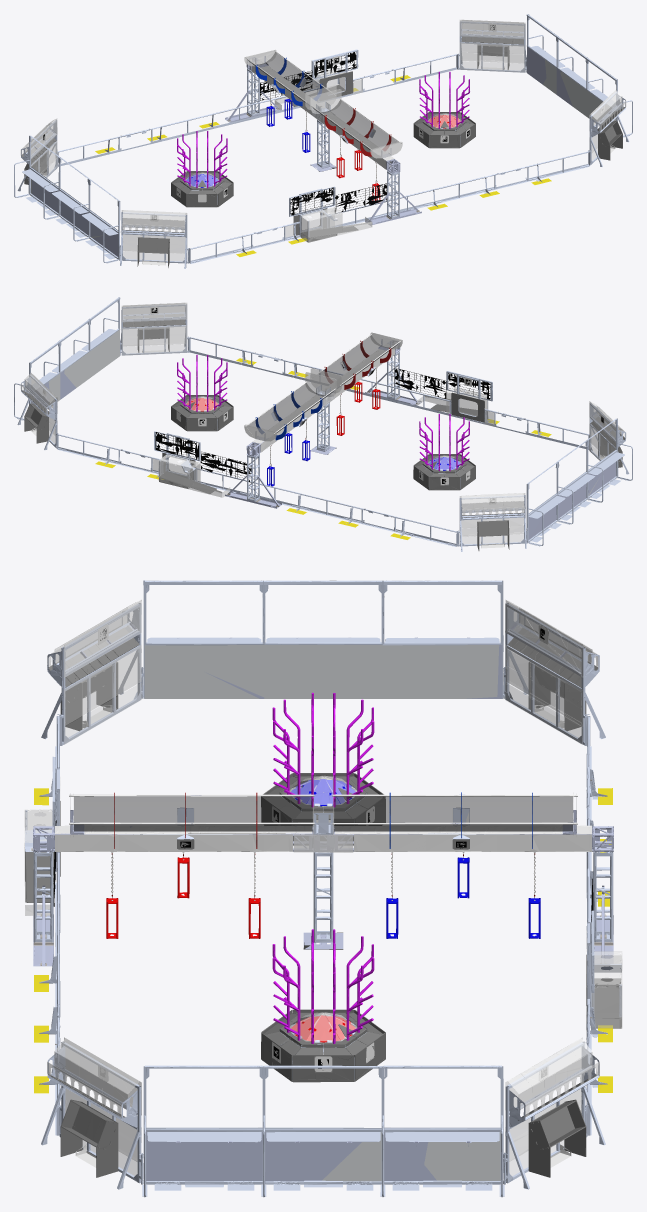
Rendered from field-2025-CkCQMYLI.glb.
3 views of the same model, one above another, from view 1: azimuth 30°, elevation 25°; view 2: azimuth 150°, elevation 25°; view 3: azimuth 270°, elevation 25° (orthographic). The views are drawn at different scales.
Parts seen in each view (by area): view 1: GE-25001-08, GE-25021, GE-25014, FE-00083_ID2, GE-25018-01, GE-25228, GE-25301, FE-00004-01, GE-25307 (×2), FE-00082, FE-00015, GE-25214 (+1 smaller); view 2: GE-25001-08, GE-25021, GE-25014, FE-00083_ID2, GE-25018-01, GE-25228, GE-25301, FE-00004-01, GE-25307 (×2), FE-00082, FE-00015, GE-25213 (+1 smaller); view 3: GE-25001-08, GE-25021, GE-25014, FE-00004-01, FE-00083_ID2, GE-25228, GE-25018-01, GE-25301, GE-25307 (×2), FE-00082, FE-00015.
Part boxes in pixels (bbox=[...]): GE-25001-08: bbox=[14, 14, 632, 268]; GE-25021: bbox=[20, 19, 626, 253]; GE-25014: bbox=[21, 31, 625, 267]; FE-00083_ID2: bbox=[41, 23, 615, 265]; GE-25018-01: bbox=[28, 30, 618, 256]; GE-25228: bbox=[248, 52, 398, 149]; GE-25301: bbox=[177, 71, 469, 188]; FE-00004-01: bbox=[31, 60, 615, 238]; GE-25307 (×2): bbox=[186, 99, 460, 202]; FE-00082: bbox=[42, 23, 597, 261]; FE-00015: bbox=[95, 75, 551, 256]; GE-25214: bbox=[324, 108, 391, 156]; GE-25001-08: bbox=[14, 297, 632, 551]; GE-25021: bbox=[20, 302, 626, 536]; GE-25014: bbox=[21, 314, 625, 550]; FE-00083_ID2: bbox=[31, 306, 605, 548]; GE-25018-01: bbox=[28, 313, 618, 539]; GE-25228: bbox=[248, 335, 398, 432]; GE-25301: bbox=[177, 355, 469, 471]; FE-00004-01: bbox=[47, 329, 599, 495]; GE-25307 (×2): bbox=[186, 382, 460, 486]; FE-00082: bbox=[49, 307, 604, 544]; FE-00015: bbox=[95, 358, 551, 539]; GE-25213: bbox=[255, 391, 322, 440]; GE-25001-08: bbox=[25, 580, 621, 1197]; GE-25021: bbox=[24, 599, 622, 1161]; GE-25014: bbox=[25, 625, 621, 1177]; FE-00004-01: bbox=[144, 645, 500, 1181]; FE-00083_ID2: bbox=[53, 624, 593, 1167]; GE-25228: bbox=[74, 797, 572, 831]; GE-25018-01: bbox=[33, 623, 613, 1181]; GE-25301: bbox=[272, 692, 374, 1043]; GE-25307 (×2): bbox=[106, 779, 540, 1042]; FE-00082: bbox=[64, 624, 586, 1175]; FE-00015: bbox=[34, 788, 612, 1093].
Size of what is drawn, in the model's own units: 18.73 by 2.57 by 9.16.
